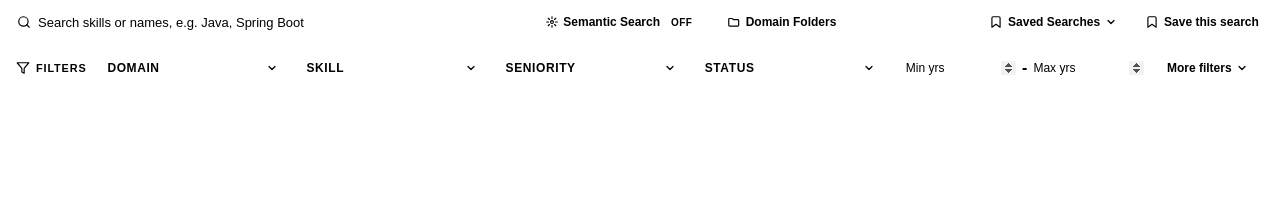
Test: ResumeFilters controls › sends several skills one change at a time and shows the count
The image size is (1278, 216).
Click the button "SKILL" at (392, 68), box [295, 53, 488, 83]
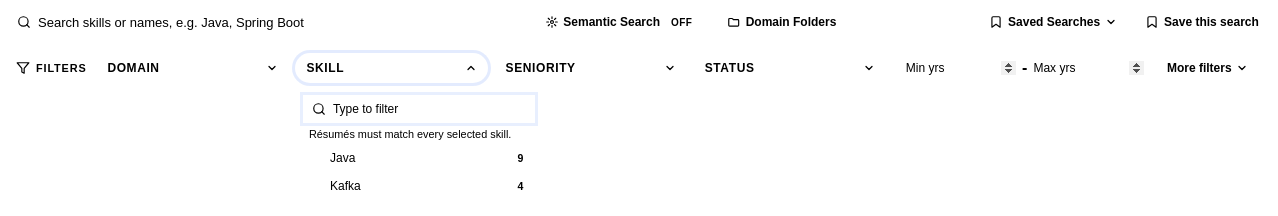
Click the option "Java 9" at (419, 158), box [299, 144, 539, 172]
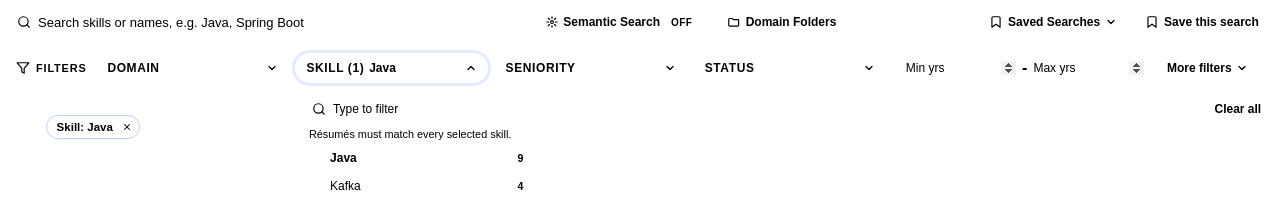
Click the option "Kafka 4" at (419, 186), box [299, 172, 539, 200]
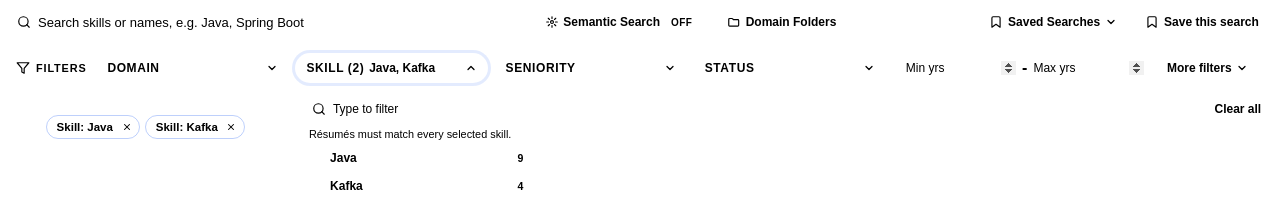
Result: the button "SKILL (2) Java, Kafka" is shown at [295, 53, 488, 83]
